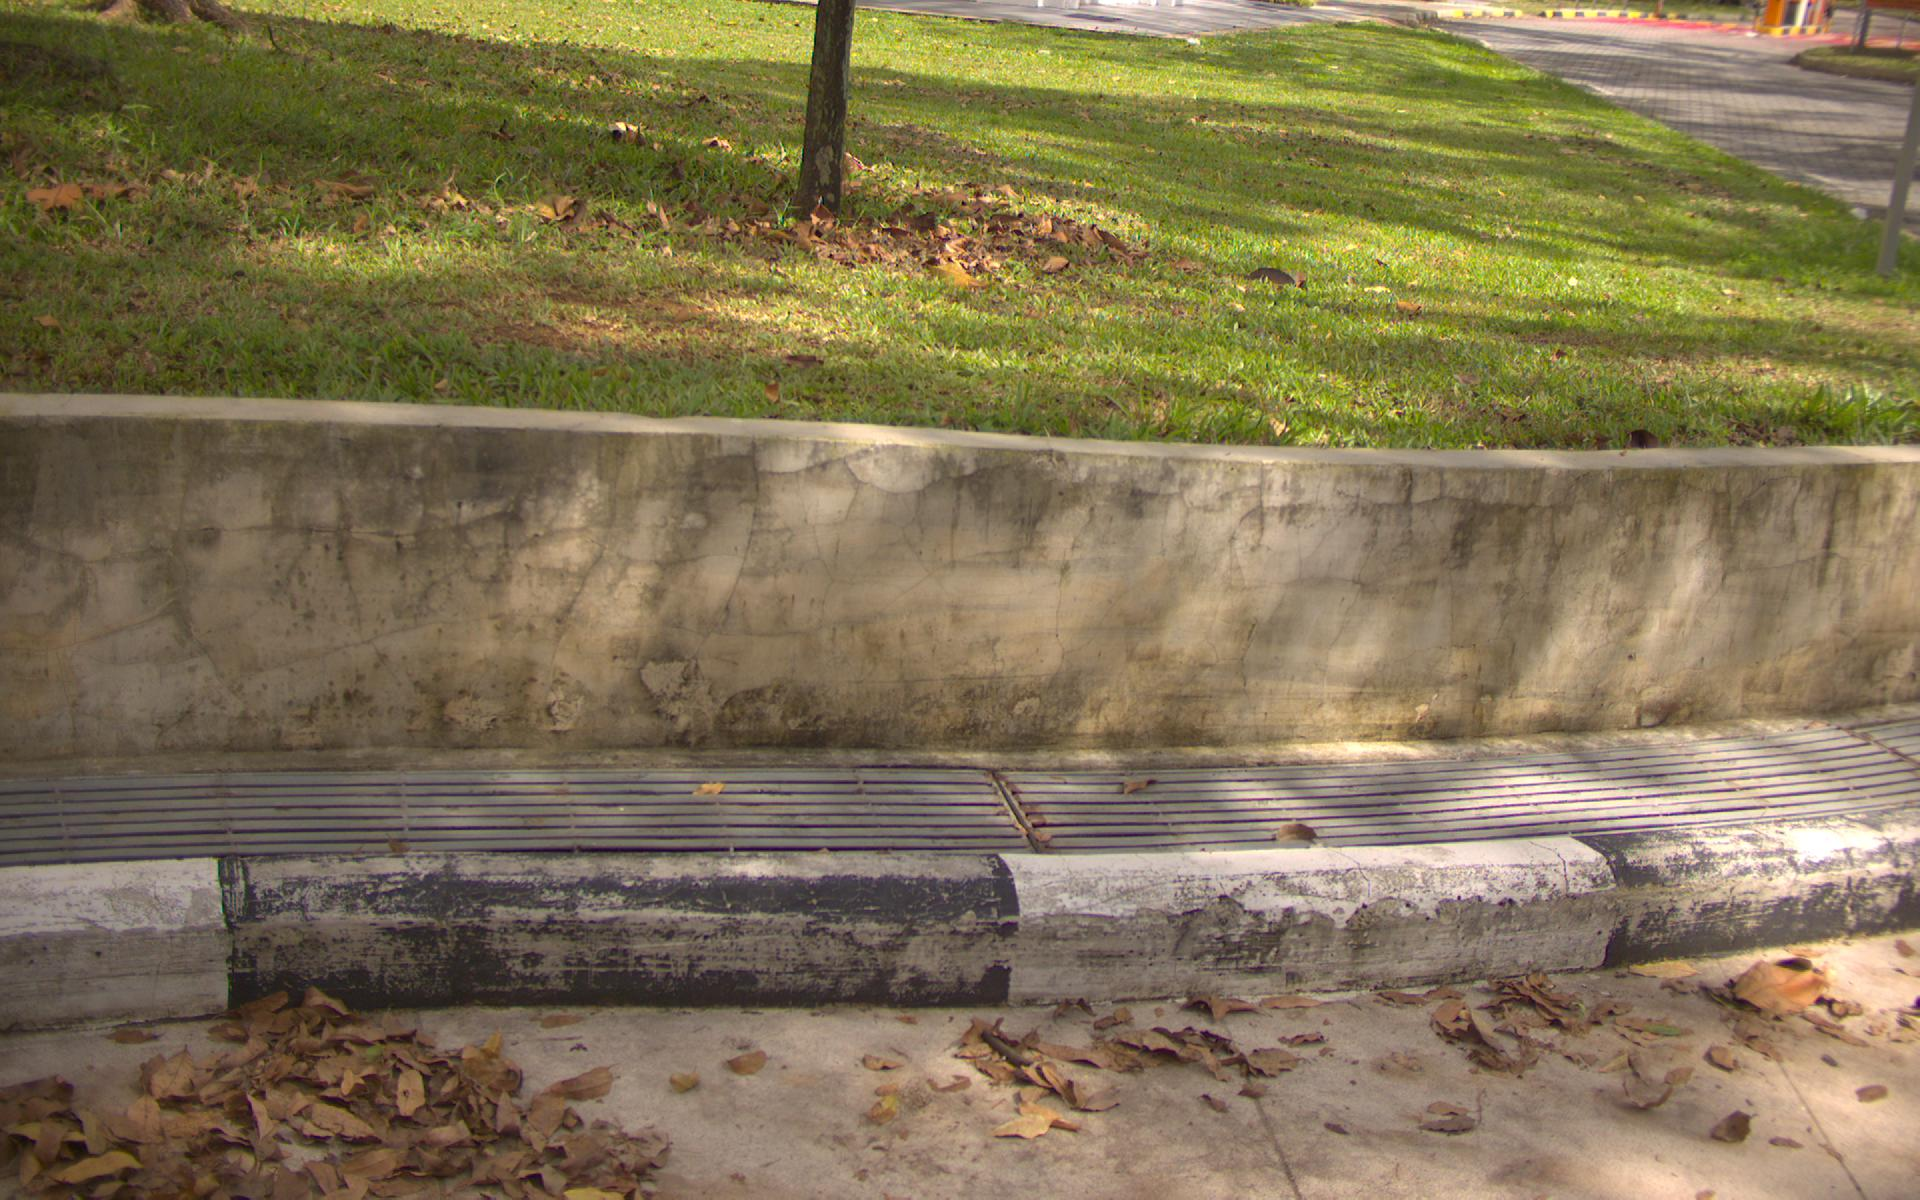curb_dic_low: (43, 735, 1910, 827)
pathway_low: (1720, 79, 1899, 142)
road_curb_medium: (19, 1012, 1920, 1200)
road_turf_low: (19, 41, 1474, 393)
